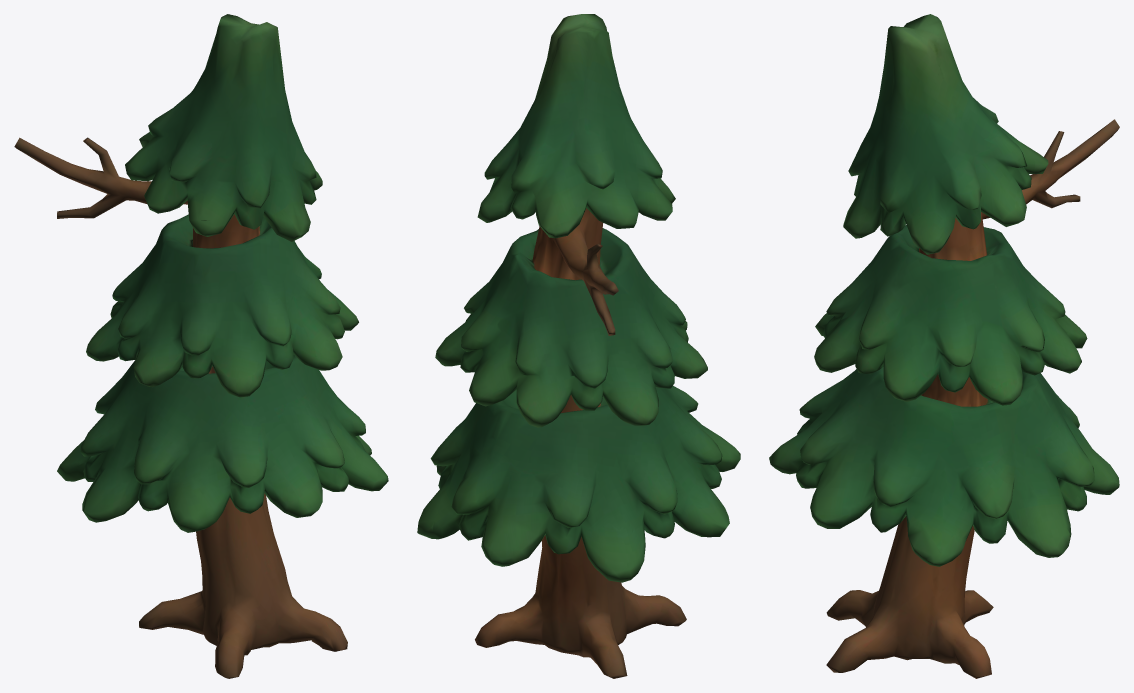
Rendered from pro_pine3-BAxscixu.glb.
3 renders of one model, left to right at view 1: azimuth 30°, elevation 25°; view 2: azimuth 150°, elevation 25°; view 3: azimuth 270°, elevation 25°, orthographic.
Visible parts, largest first — view 1: tripo_node_1b1cbb43-ace5-45c6-bda3-8c19effd9d98; view 2: tripo_node_1b1cbb43-ace5-45c6-bda3-8c19effd9d98; view 3: tripo_node_1b1cbb43-ace5-45c6-bda3-8c19effd9d98.
Part boxes in pixels (x1,y1,x2,y2): tripo_node_1b1cbb43-ace5-45c6-bda3-8c19effd9d98: (14,14,388,678); tripo_node_1b1cbb43-ace5-45c6-bda3-8c19effd9d98: (417,14,740,678); tripo_node_1b1cbb43-ace5-45c6-bda3-8c19effd9d98: (769,14,1119,678).
Size of the model in its own units: 0.4896 by 1 by 0.5128.
Materials: 1 (1 with a texture image).
